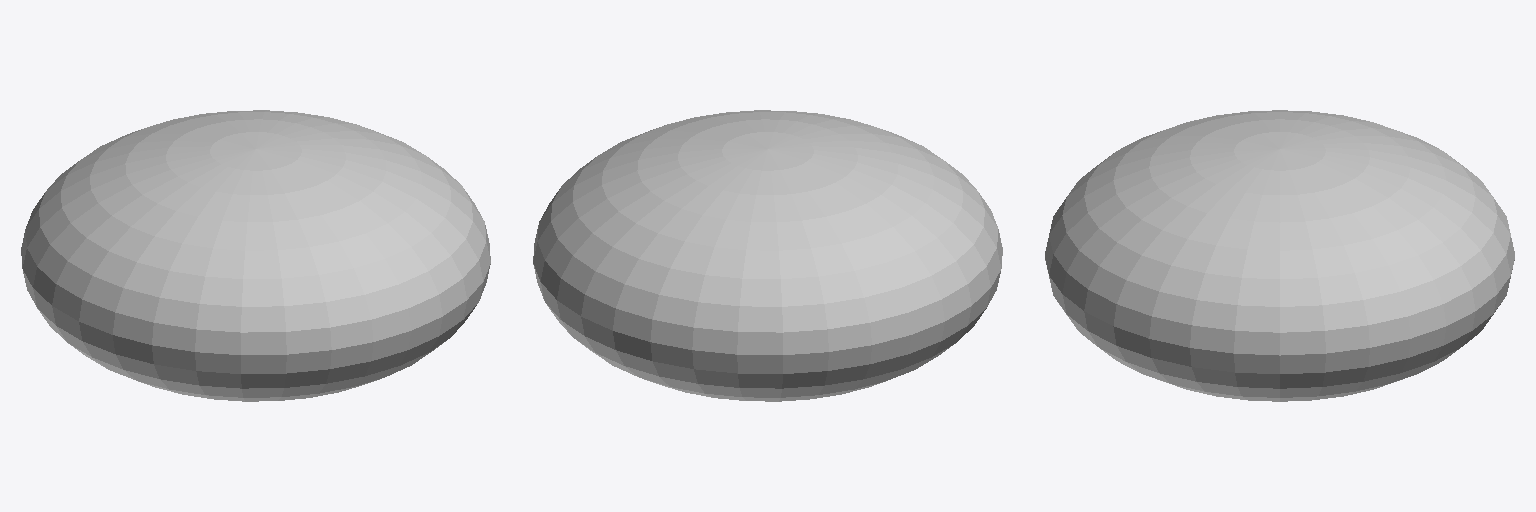
Rendered from spider_egg_sack_1_001.obj.
The picture shows the model from 3 angles: view 1: azimuth 30°, elevation 25°; view 2: azimuth 150°, elevation 25°; view 3: azimuth 270°, elevation 25°; orthographic projection.
Visible parts, largest first — view 1: Sphere; view 2: Sphere; view 3: Sphere.
Boxes of the visible parts, x1,y1,x2,y2 form: Sphere: [21, 110, 490, 401]; Sphere: [533, 110, 1002, 401]; Sphere: [1045, 110, 1514, 401].
Size of the model in its own units: 2 by 1 by 2.